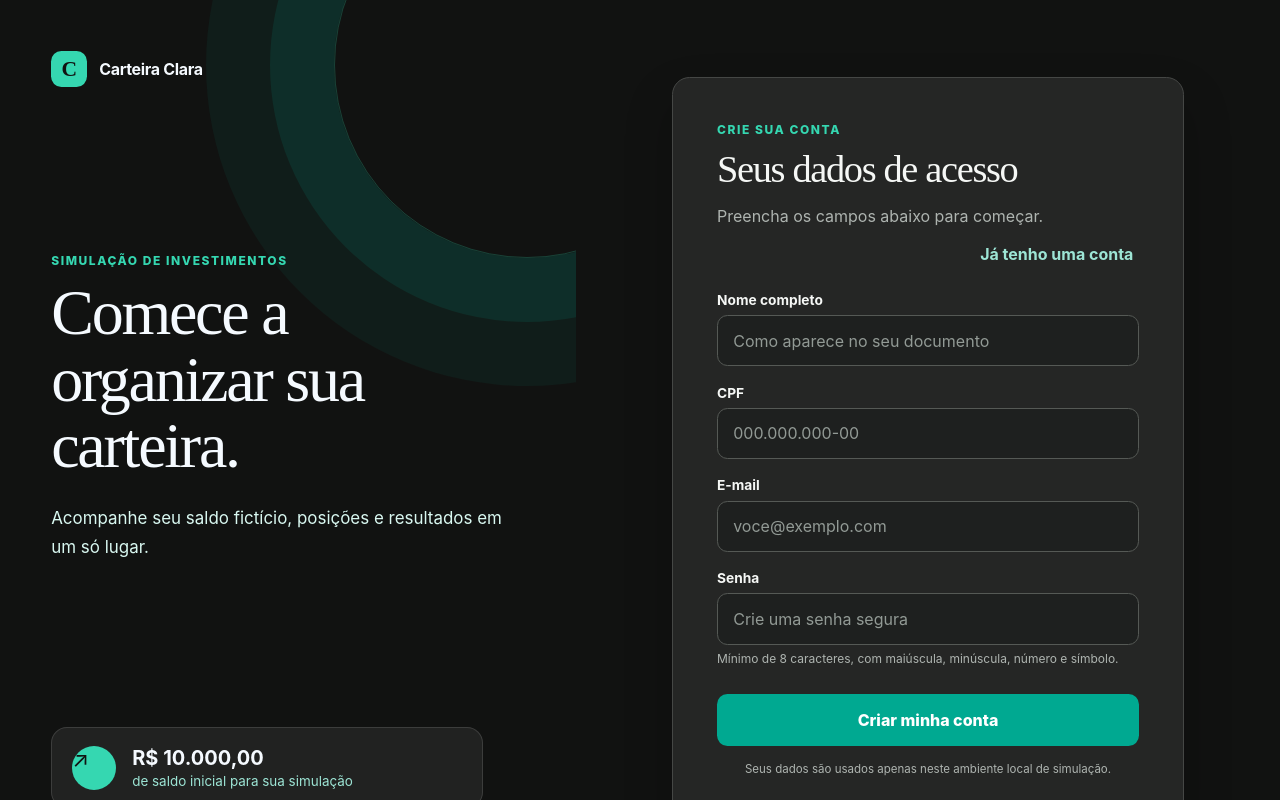
Cadastro › usa mensagens seguras quando saldo e status retornados são desconhecidos
Type "Ana Silva" into the field labelled "Nome completo" at [928, 341], box [717,315,1139,366]
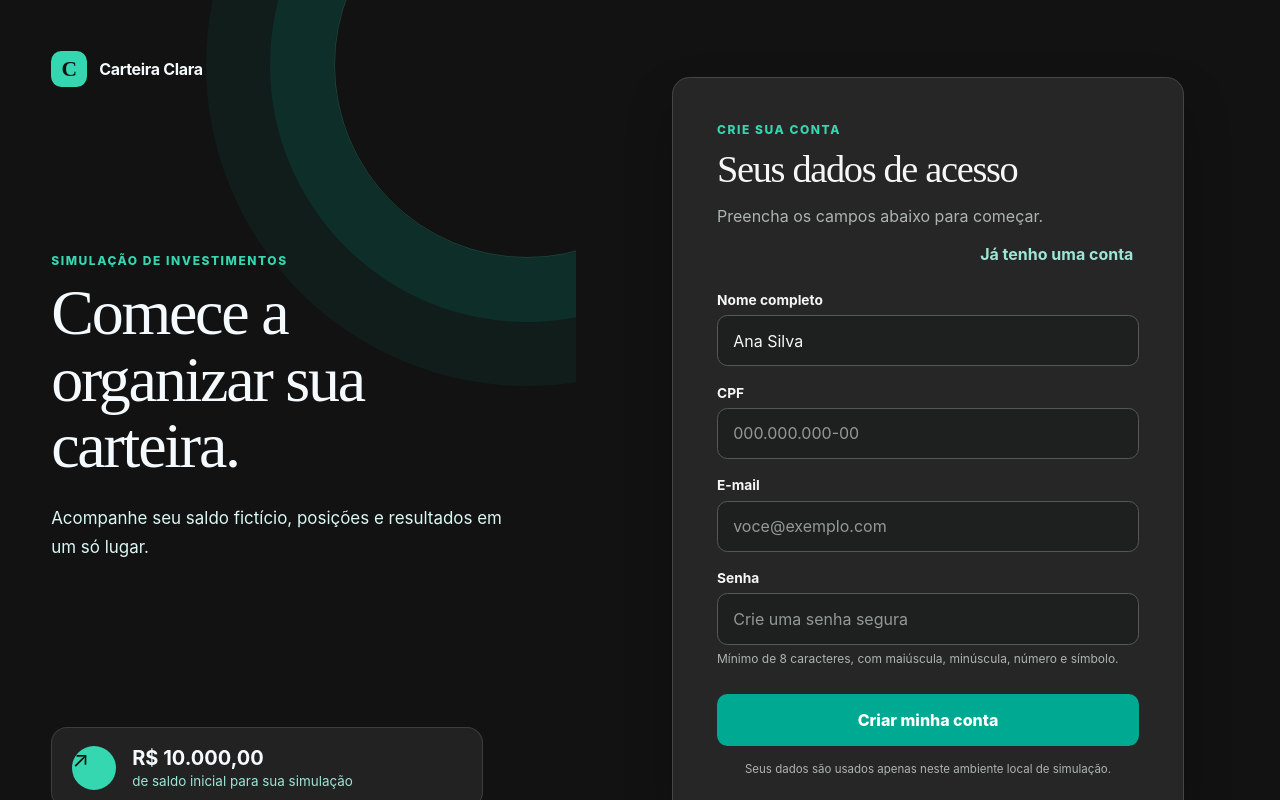
Type "52998224725" into the field labelled "CPF" at [928, 434], box [717,408,1139,459]
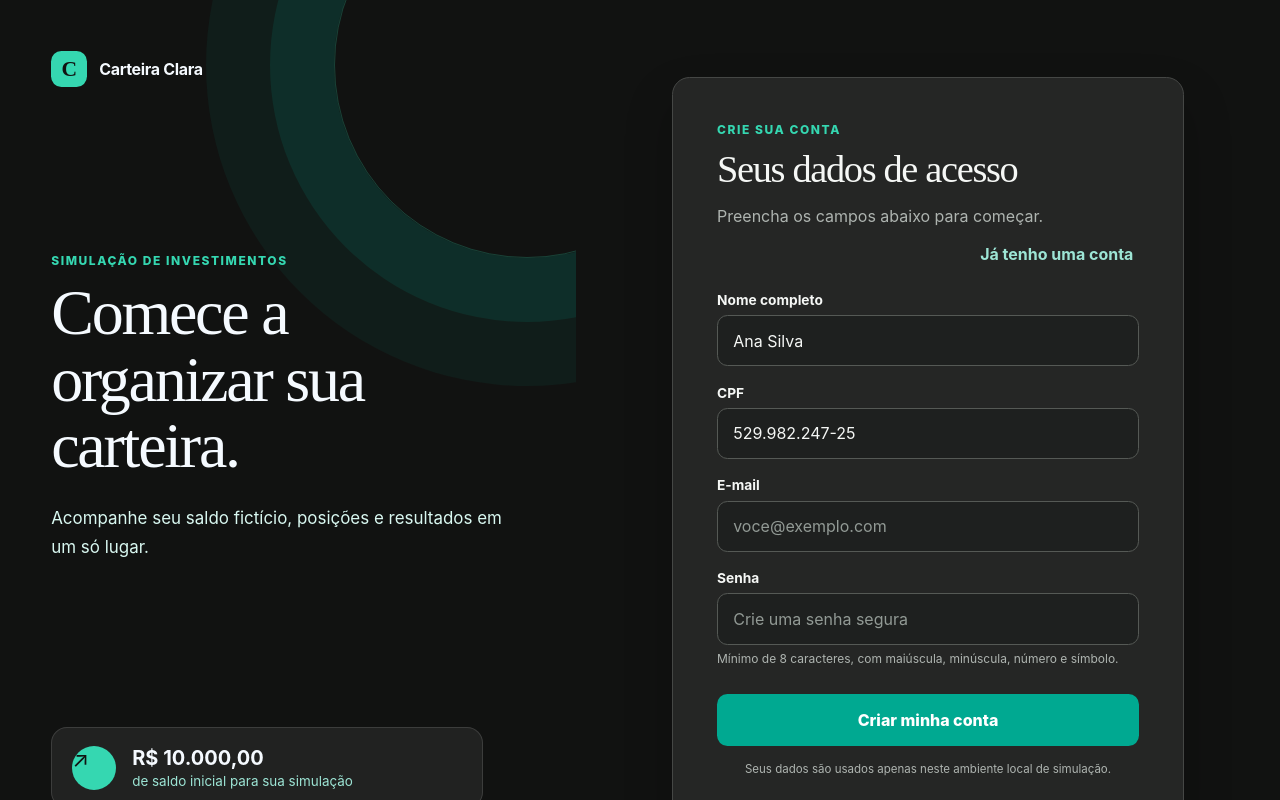
Type "ana@example.com" into the field labelled "E-mail" at [928, 526], box [717,501,1139,552]
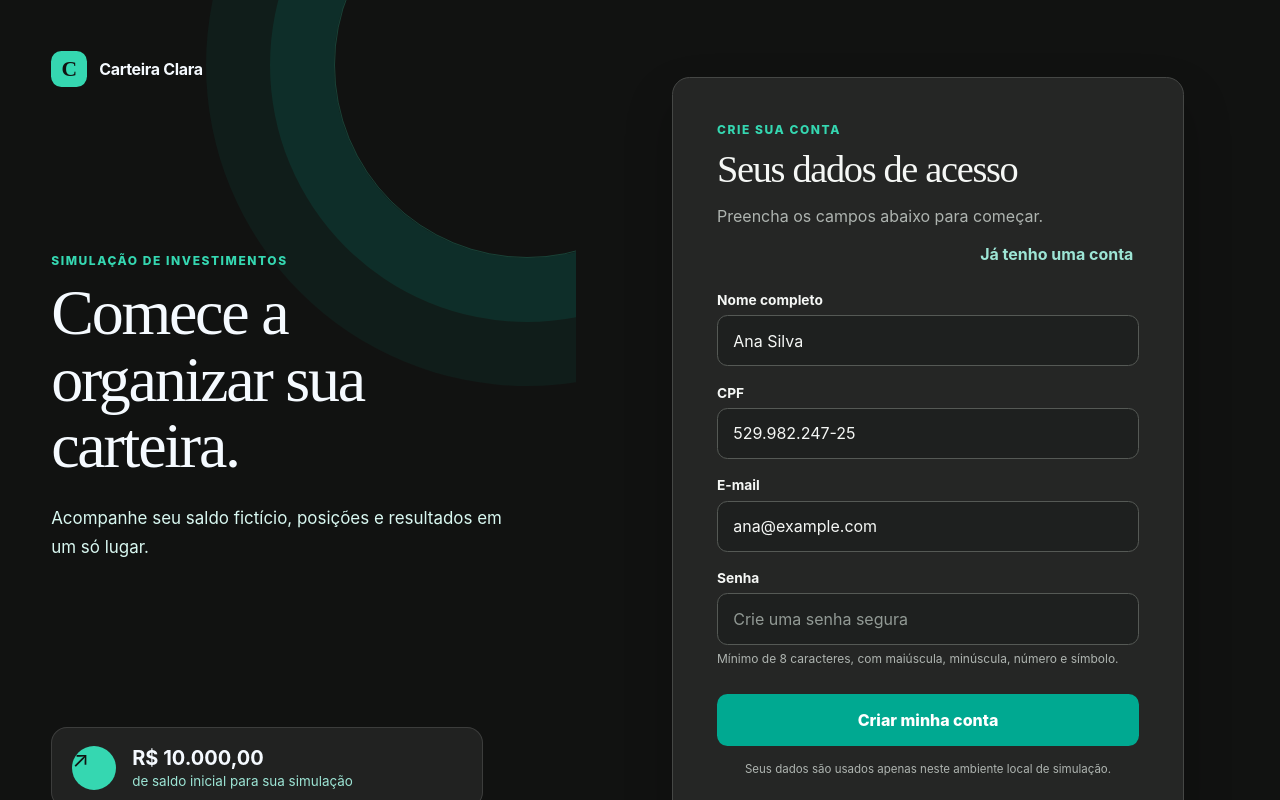
Type "Senha@123" into the password field labelled "Senha" at [928, 619], box [717,593,1139,645]
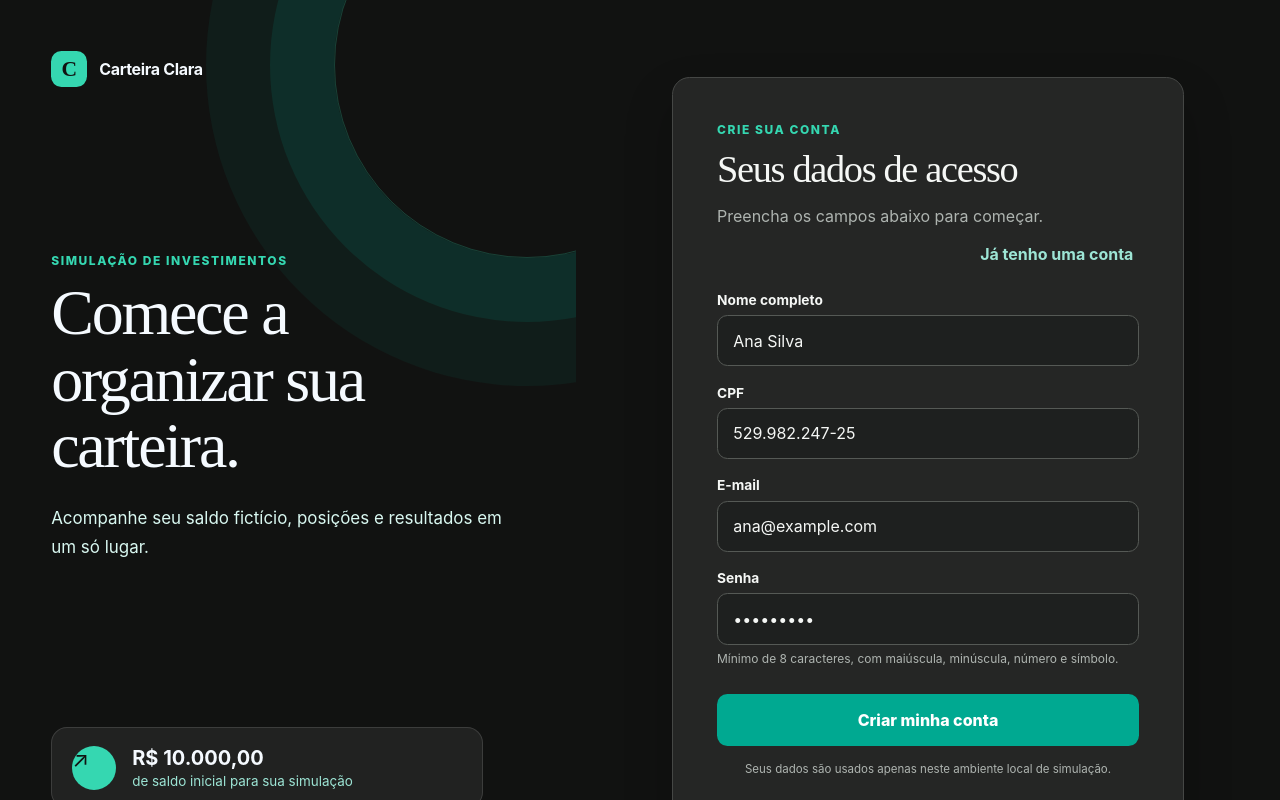
Click the button "Criar minha conta" at [928, 720], box [717,694,1139,746]
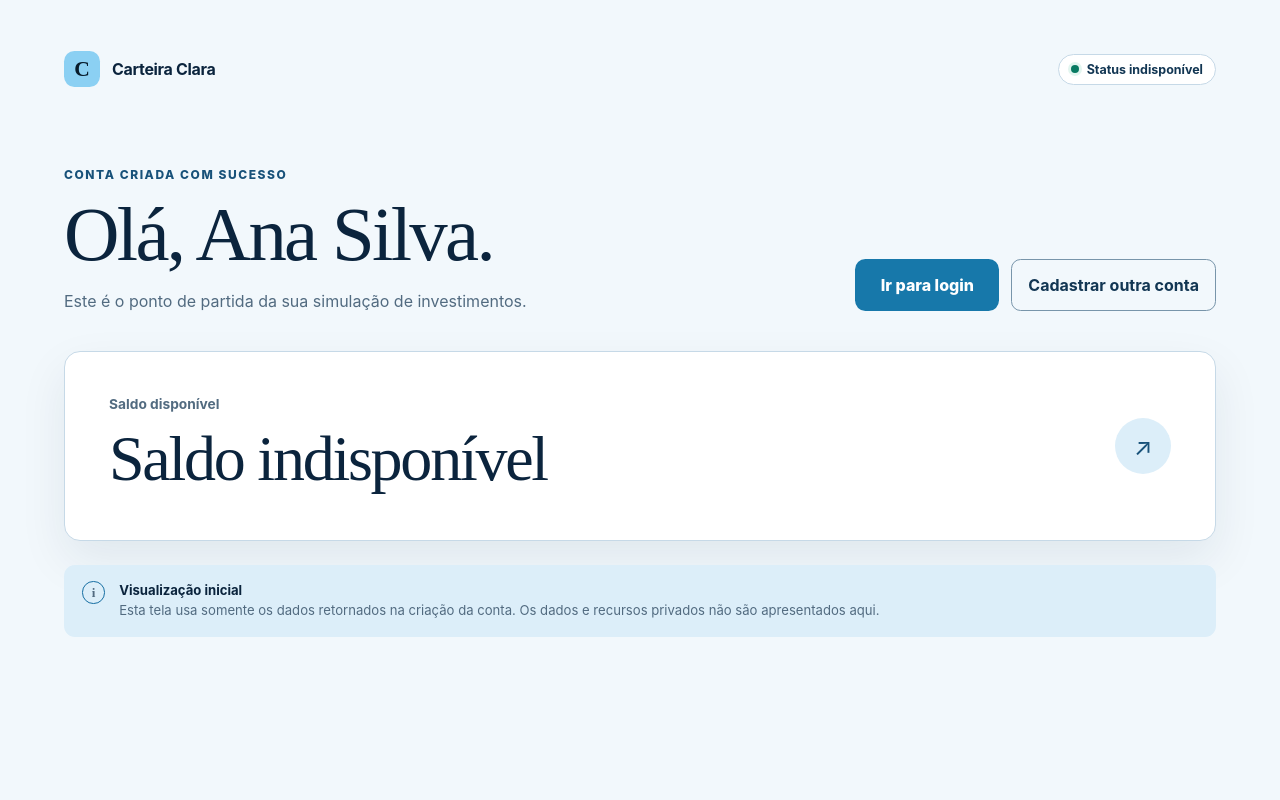
Result: the text "Saldo indisponível" is shown at [109,423,547,494]
Result: the text "Status indisponível" is shown at [1058,54,1216,85]
